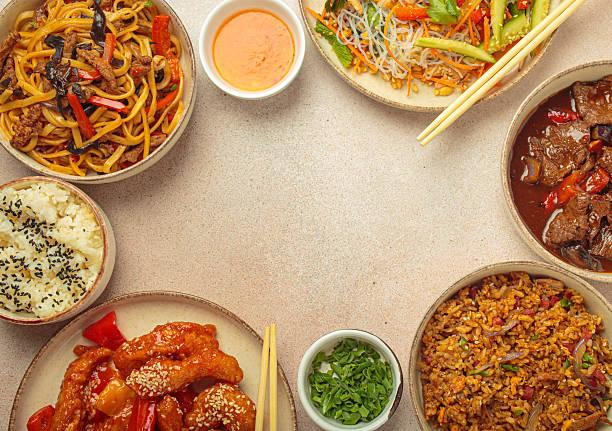Braised Crucian Carp: (5, 291, 298, 428), (2, 1, 195, 184), (408, 260, 608, 428), (296, 0, 559, 114), (499, 58, 611, 281), (1, 175, 116, 325)
